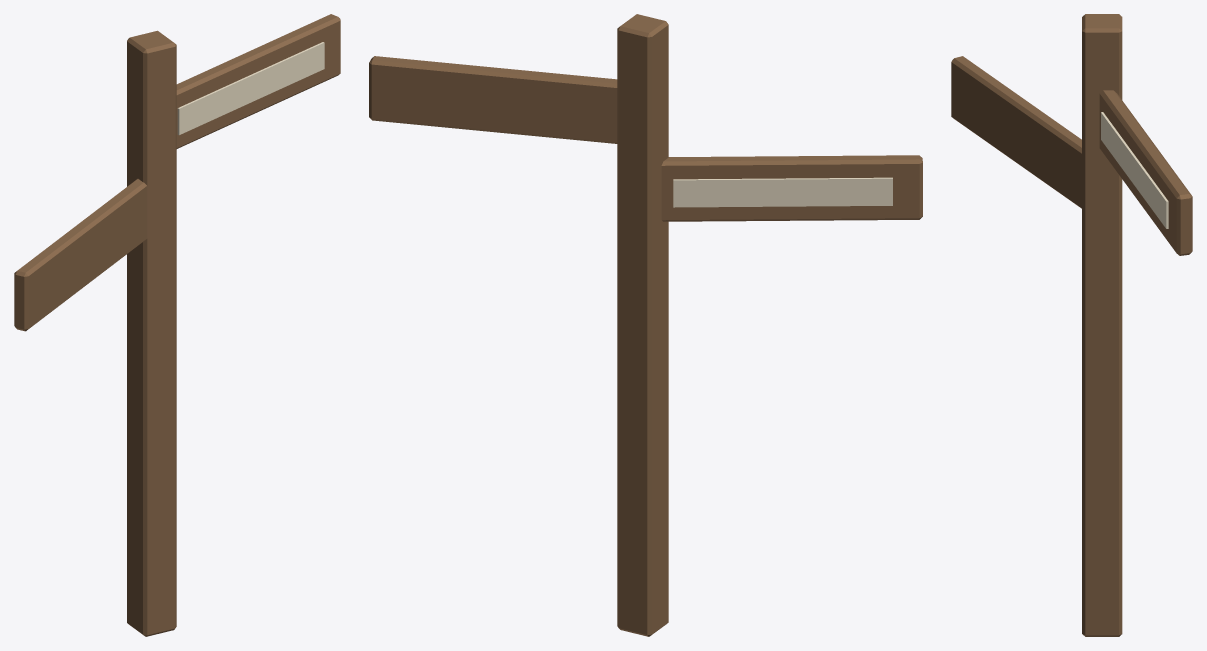
Rendered from signpost.glb.
3 renders of one model, left to right at view 1: azimuth 30°, elevation 25°; view 2: azimuth 150°, elevation 25°; view 3: azimuth 270°, elevation 25°, orthographic. The views are drawn at different scales.
Visible parts, largest first — view 1: signpost; view 2: signpost; view 3: signpost.
Part boxes in pixels (x1=…): signpost: x1=14, y1=14, x2=340, y2=636; signpost: x1=369, y1=14, x2=922, y2=636; signpost: x1=951, y1=14, x2=1192, y2=636.
Size of what is drawn, in the model's own units: 1.53 by 2 by 0.7185.
